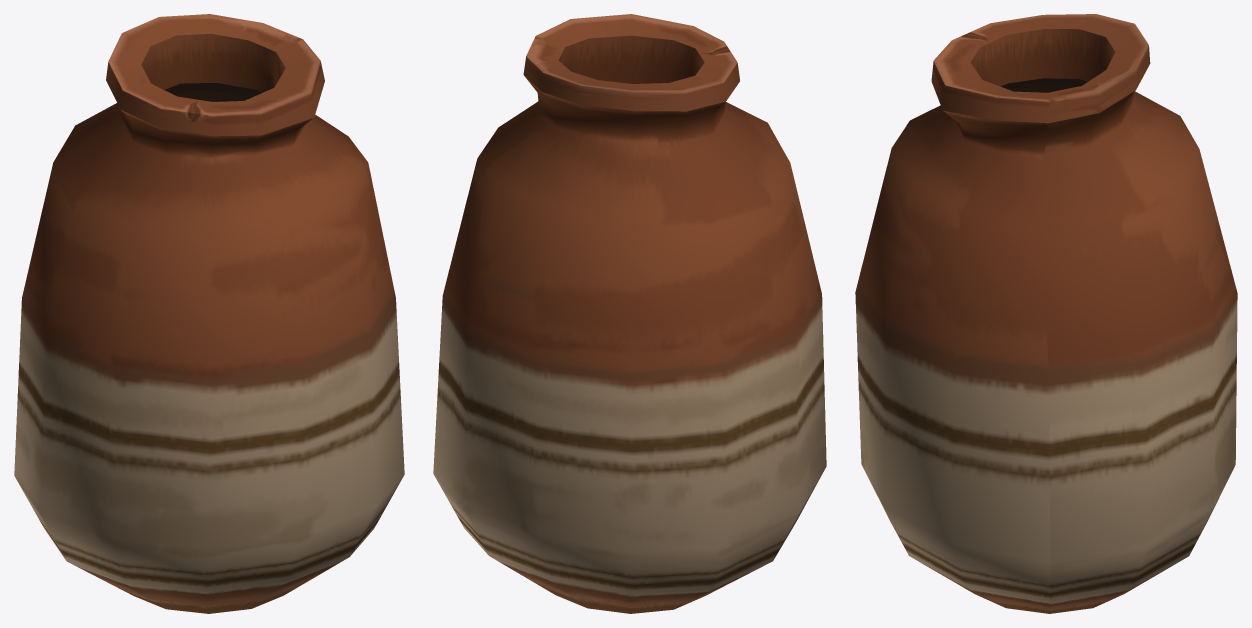
Rendered from SM_PROP_pot_battle_01.fbx.
The picture shows the model from 3 angles, left to right: view 1: azimuth 30°, elevation 25°; view 2: azimuth 150°, elevation 25°; view 3: azimuth 270°, elevation 25°; orthographic projection.
Parts seen in each view (by area): view 1: SM_PROP_pot_battle_01; view 2: SM_PROP_pot_battle_01; view 3: SM_PROP_pot_battle_01.
Part boxes in pixels (bbox=[...]): SM_PROP_pot_battle_01: bbox=[14, 14, 404, 613]; SM_PROP_pot_battle_01: bbox=[433, 14, 826, 613]; SM_PROP_pot_battle_01: bbox=[855, 14, 1237, 613].
Size of the model in its own units: 55.78 by 82.74 by 53.91.
